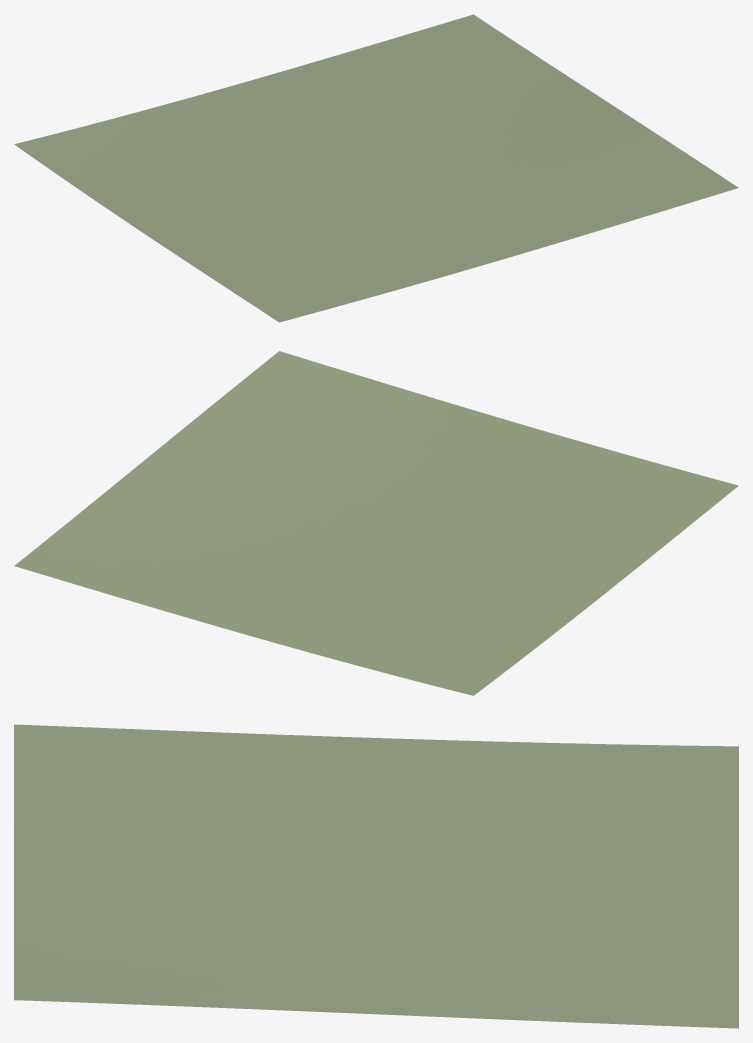
File: expanse-5-21.glb
3 views of the same model, one above another, from view 1: azimuth 30°, elevation 25°; view 2: azimuth 150°, elevation 25°; view 3: azimuth 270°, elevation 25° (orthographic). The views are drawn at different scales.
Visible parts, largest first — view 1: expanse-5-21; view 2: expanse-5-21; view 3: expanse-5-21.
Boxes of the visible parts, x1,y1,x2,y2 form: expanse-5-21: (14, 14, 738, 322); expanse-5-21: (14, 351, 738, 695); expanse-5-21: (14, 724, 738, 1028).
Bounding box in the file's own units: 256 × 20.5 × 256.
